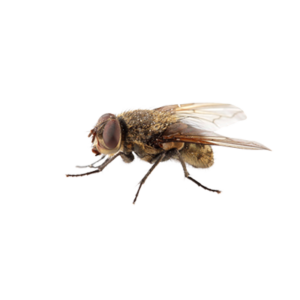house fly: (61, 101, 276, 201)
